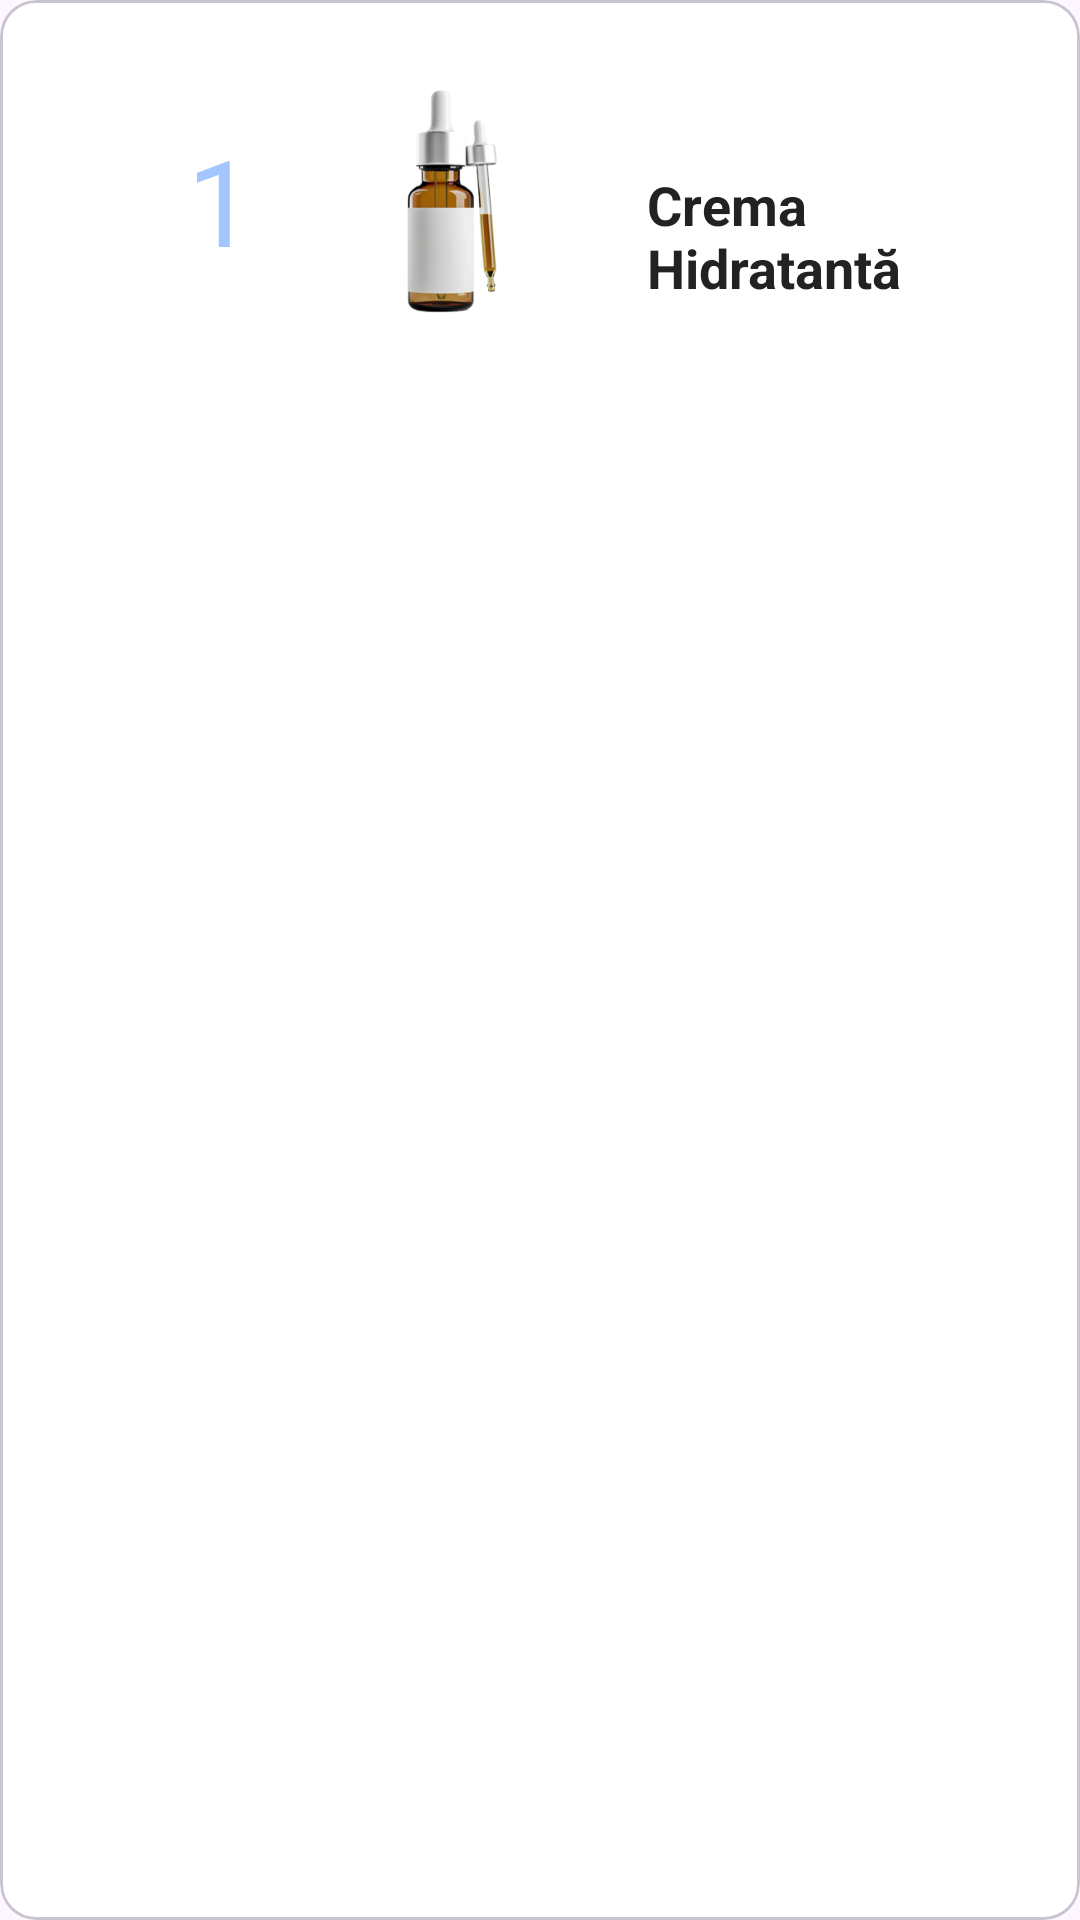

Icon click points for this 1080 × 1920 phone screenshot, format point (x, y):
Imagine produs: point (452, 201)
